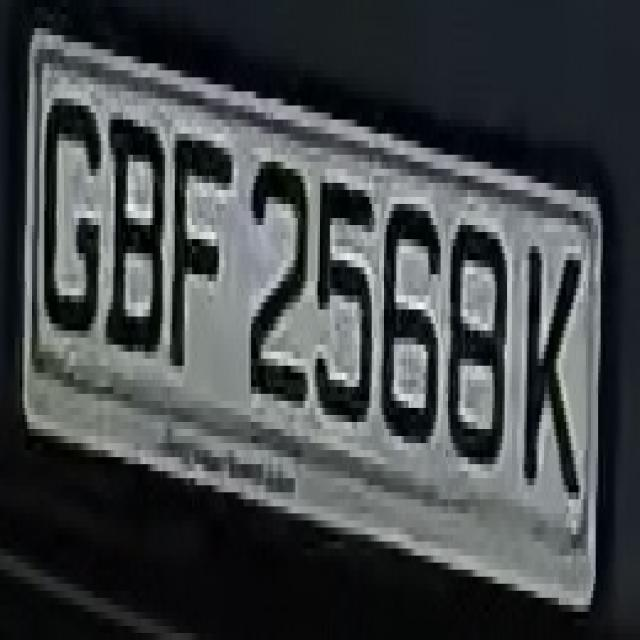2: (248, 134, 312, 436)
5: (310, 141, 379, 450)
6: (382, 169, 446, 485)
8: (443, 204, 512, 492)
B: (106, 98, 170, 380)
F: (167, 98, 234, 387)
G: (37, 56, 101, 359)
K: (520, 204, 588, 520)
